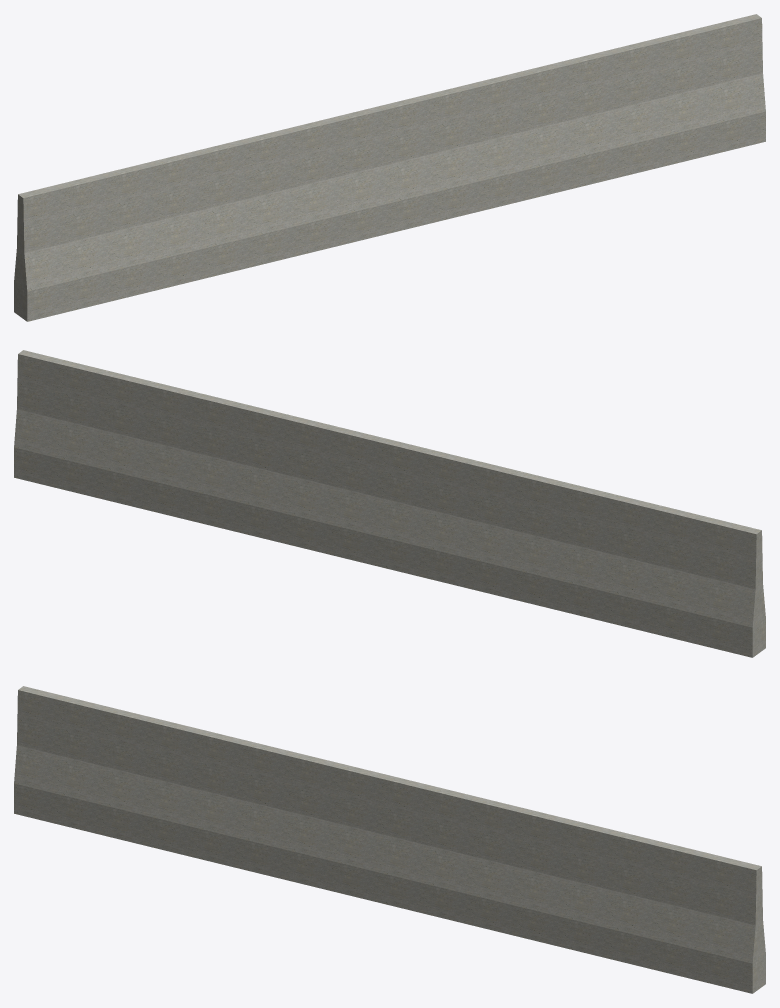
Rendered from thm_corl_imprv_wall_4x32_s04_l0.fbx.
The picture shows the model from 3 angles, top to bottom: view 1: azimuth 30°, elevation 25°; view 2: azimuth 150°, elevation 25°; view 3: azimuth 330°, elevation 25°; orthographic projection.
Visible parts, largest first — view 1: mesh_node; view 2: mesh_node; view 3: mesh_node.
Boxes of the visible parts, x1,y1,x2,y2 form: mesh_node: (14,14,765,321); mesh_node: (14,350,765,657); mesh_node: (14,686,765,993).
Size of the model in its own units: 32 by 5 by 1.
Materials: 1 (1 with a texture image).
